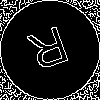R: (25, 25, 75, 80)
